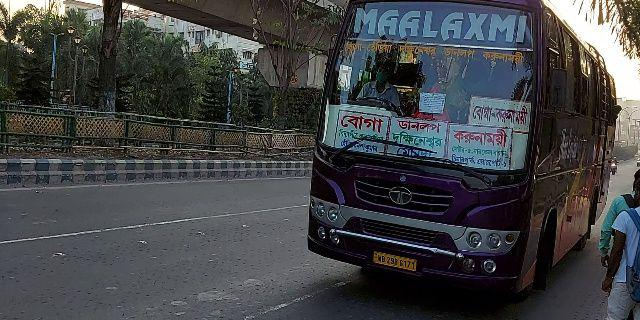Bus: (307, 2, 617, 294)
